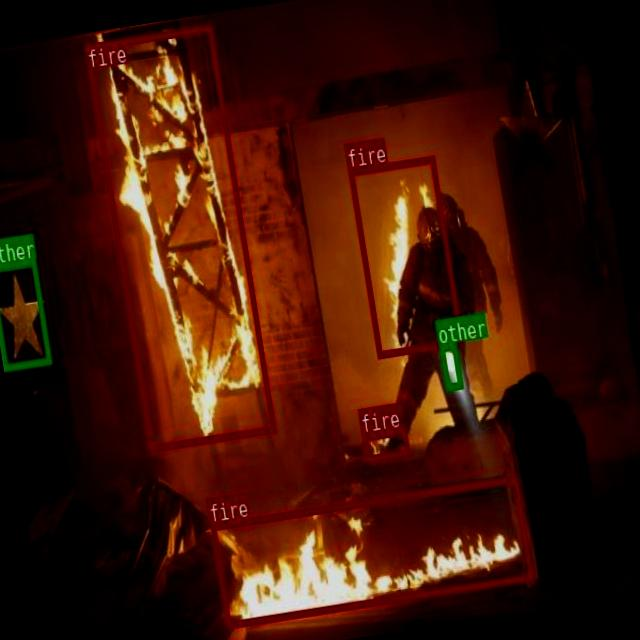fire: (84, 24, 276, 452), (210, 475, 533, 628), (347, 154, 463, 358), (362, 426, 409, 462)
